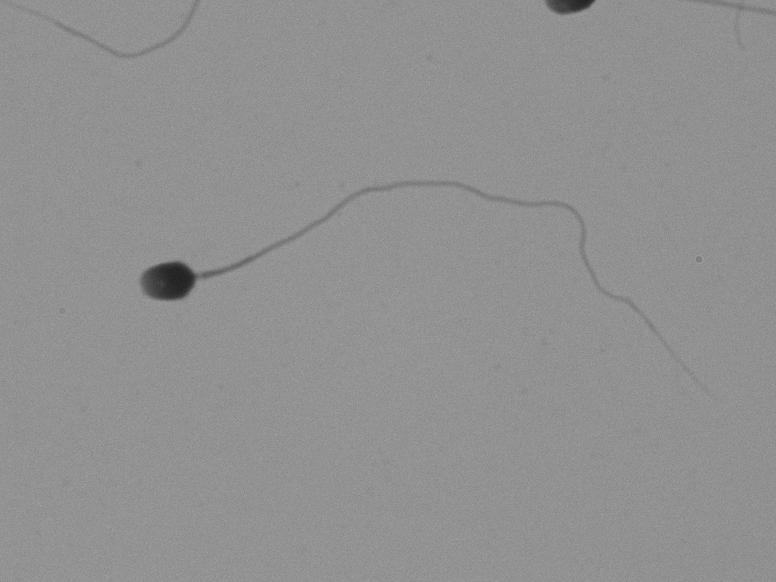Normal: (68, 147, 729, 411)
